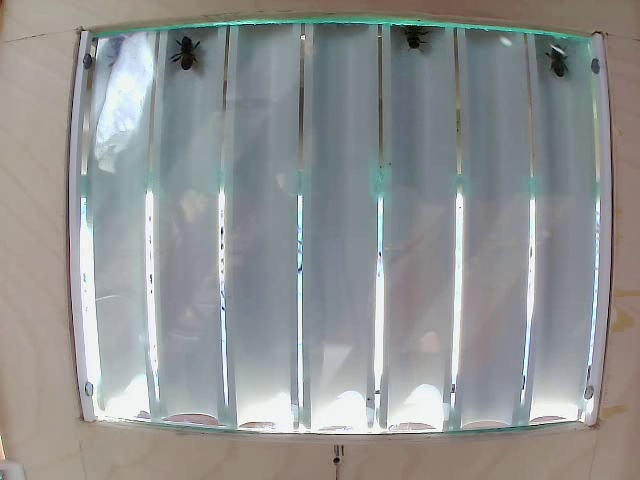bee: (169, 36, 225, 80), (543, 36, 580, 88)
